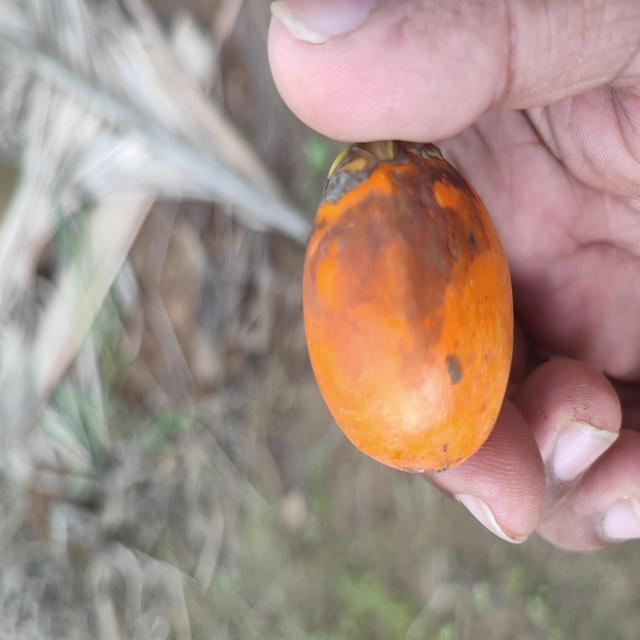good: (301, 141, 516, 478)
